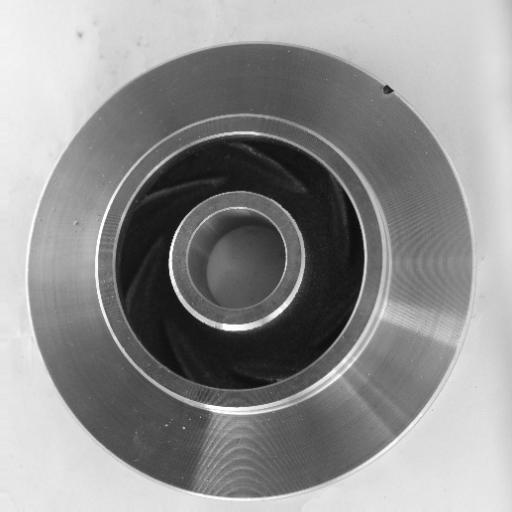crack: (372, 73, 408, 104)
unpolished_casting: (27, 40, 473, 500)
